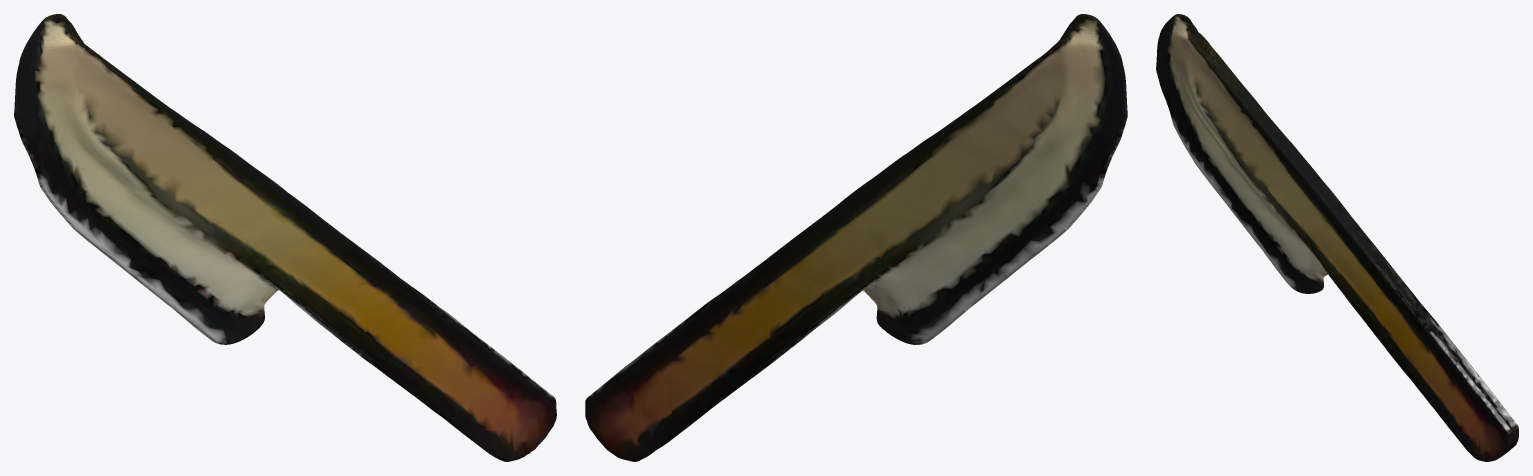
The model's file is b_slicingknife.glb.
3 views of the same model, side by side, from view 1: azimuth 30°, elevation 25°; view 2: azimuth 150°, elevation 25°; view 3: azimuth 330°, elevation 25° (orthographic). The views are drawn at different scales.
Parts seen in each view (by area): view 1: geometry_0; view 2: geometry_0; view 3: geometry_0.
Boxes of the visible parts, x1,y1,x2,y2 form: geometry_0: (14,14,556,461); geometry_0: (585,14,1127,461); geometry_0: (1156,14,1518,461).
Size of the model in its own units: 0.5938 by 0.5847 by 0.0302.
